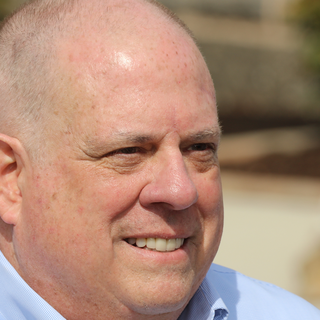eye: (101, 141, 152, 164), (178, 135, 220, 161)
